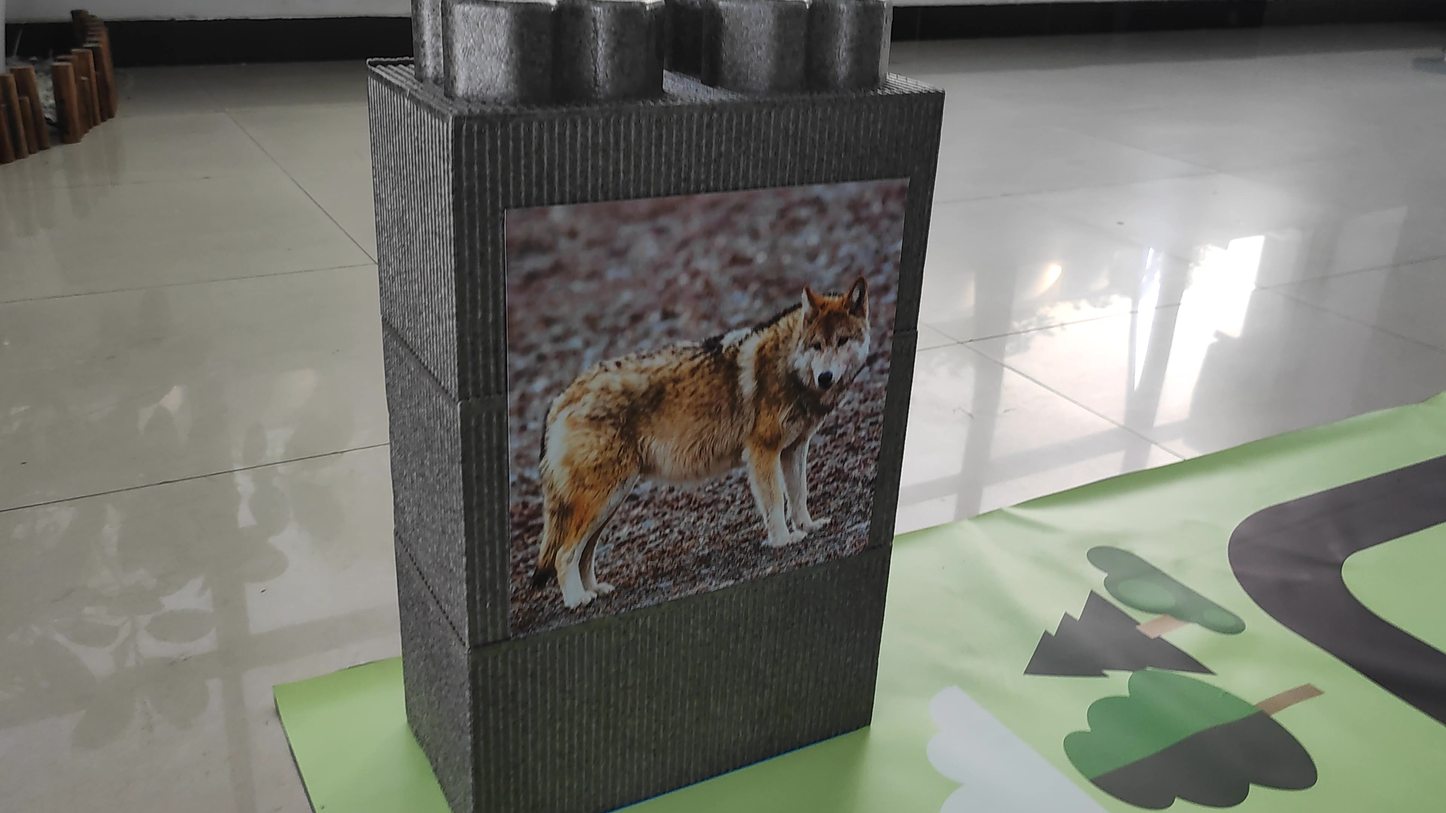wolf: (494, 285, 909, 591)
